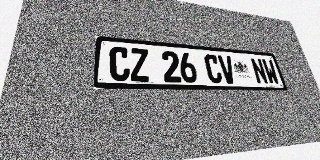2: (161, 50, 182, 82)
6: (178, 52, 198, 83)
C: (109, 46, 130, 81), (203, 54, 223, 83)
N: (250, 58, 269, 84)
V: (217, 55, 237, 84)
W: (261, 59, 280, 85)
Z: (130, 48, 150, 82)
